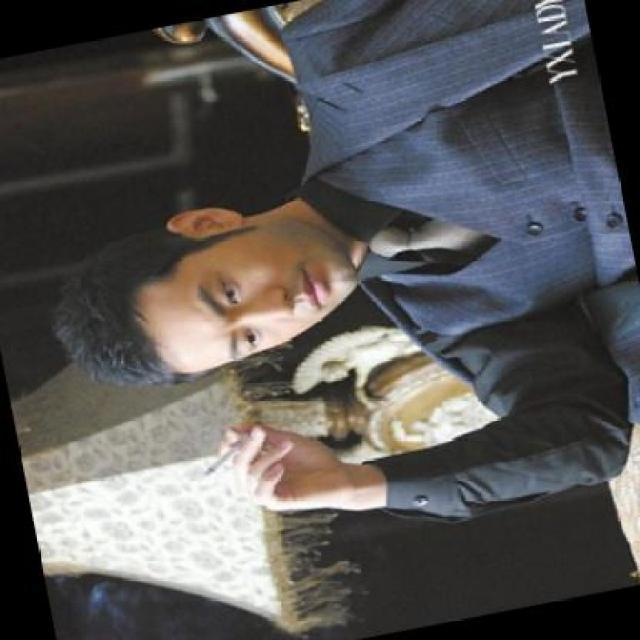smoke: (198, 421, 389, 518)
